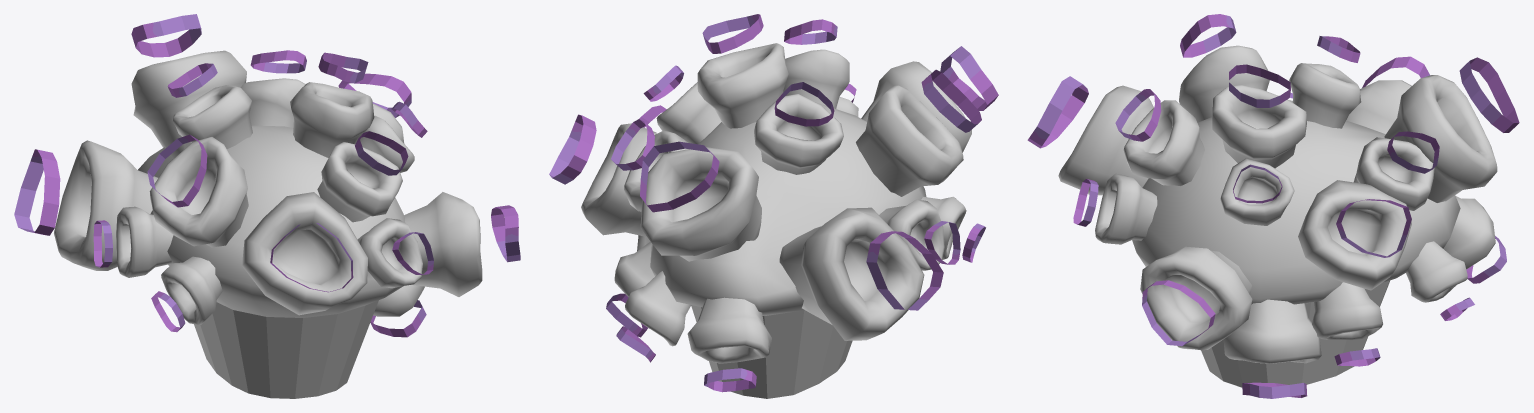
File: P_Blob3.fbx
3 views of the same model, side by side, from view 1: azimuth 30°, elevation 25°; view 2: azimuth 150°, elevation 25°; view 3: azimuth 270°, elevation 25° (orthographic). The views are drawn at different scales.
Visible parts, largest first — view 1: Plant Blob 3V2_Export; view 2: Plant Blob 3V2_Export; view 3: Plant Blob 3V2_Export.
Part boxes in pixels (bbox=[...]): Plant Blob 3V2_Export: bbox=[14, 14, 520, 398]; Plant Blob 3V2_Export: bbox=[549, 14, 998, 398]; Plant Blob 3V2_Export: bbox=[1027, 14, 1519, 398].
Size of the model in its own units: 61.72 by 47.29 by 66.72.
